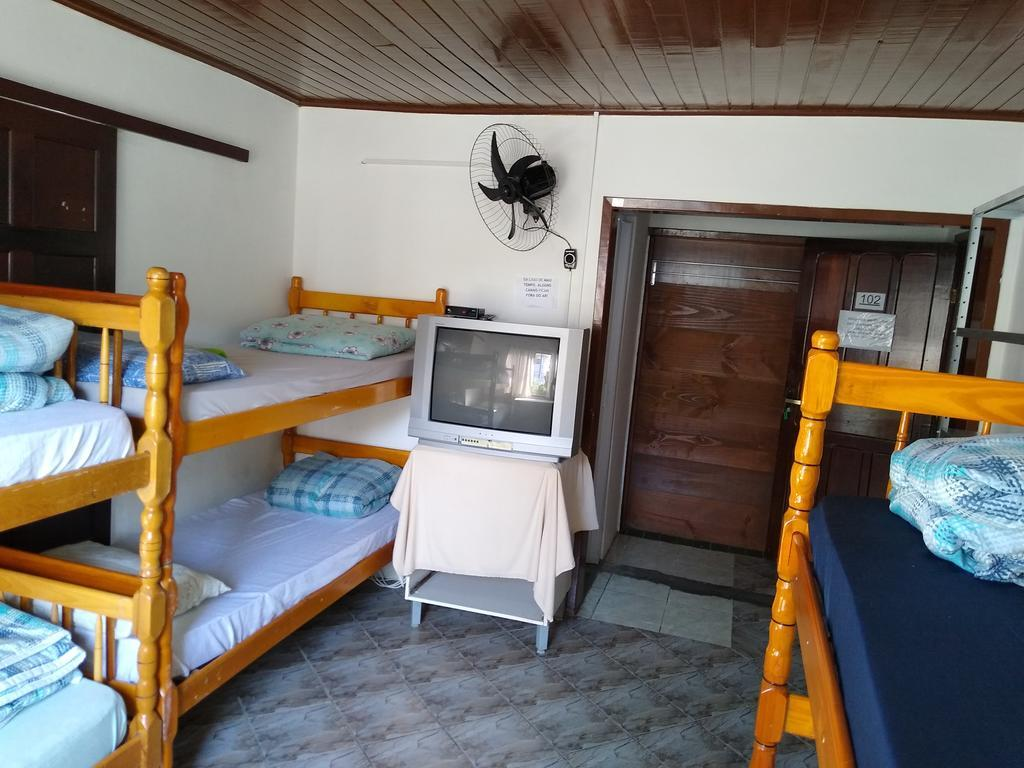bed: (8, 263, 443, 405)
